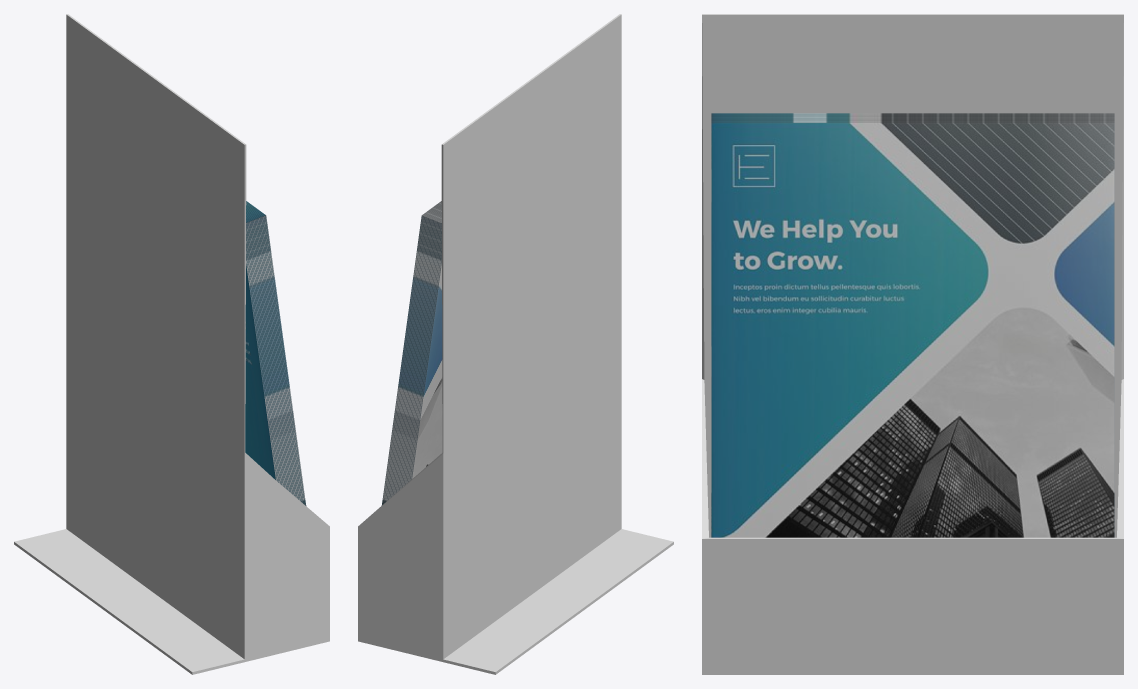
Rendered from Tray.fbx.
3 renders of one model, left to right at view 1: azimuth 30°, elevation 25°; view 2: azimuth 150°, elevation 25°; view 3: azimuth 270°, elevation 25°, orthographic. The views are drawn at different scales.
Parts seen in each view (by area): view 1: Cube.002, Plane.001; view 2: Cube.002, Plane.001; view 3: Plane.001, Cube.002.
Part boxes in pixels (<box>): Cube.002: <box>14,14,329,674</box>; Plane.001: <box>245,201,306,505</box>; Cube.002: <box>358,14,673,674</box>; Plane.001: <box>381,201,442,505</box>; Plane.001: <box>711,113,1114,537</box>; Cube.002: <box>702,14,1123,674</box>.
Bounding box in the file's own units: 9.78 × 35.16 × 21.97.
